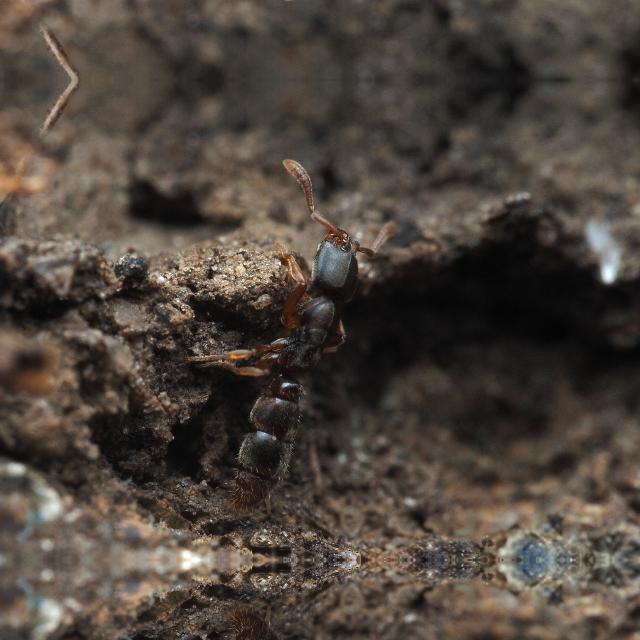Ponera: (208, 174, 370, 532)
